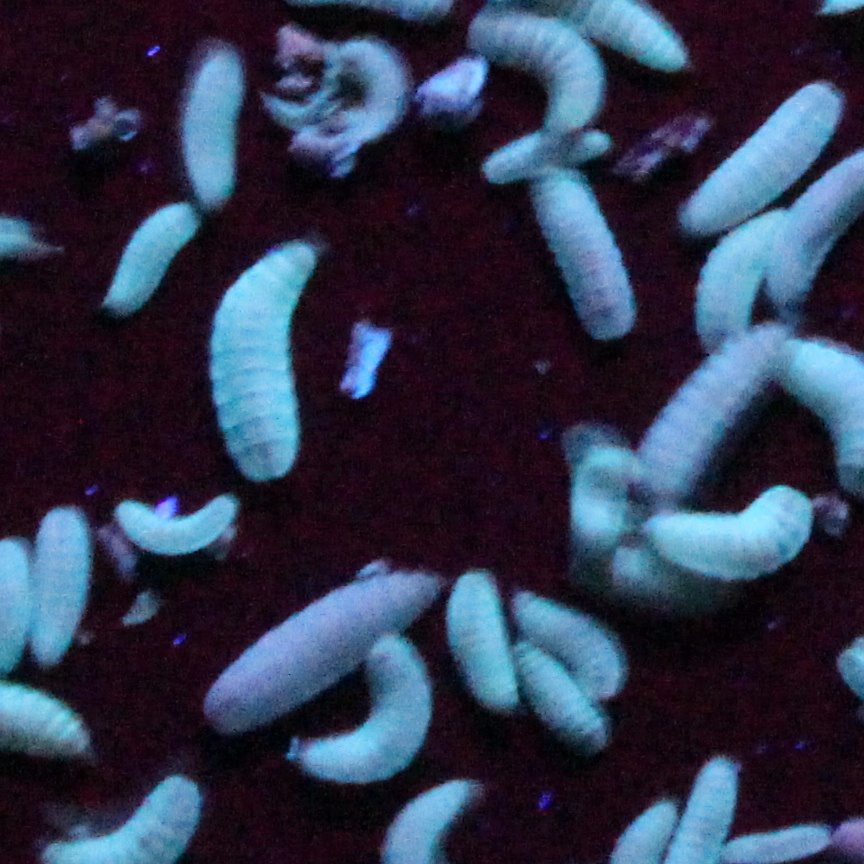larve: (210, 566, 439, 727), (206, 245, 314, 479), (636, 329, 783, 494), (690, 84, 834, 225), (305, 641, 430, 789), (530, 173, 638, 337), (470, 8, 598, 132), (640, 490, 812, 569), (515, 591, 628, 689), (101, 202, 195, 319), (693, 217, 776, 338), (449, 570, 515, 721), (31, 506, 92, 659), (183, 48, 240, 207), (520, 649, 600, 749), (119, 498, 239, 554), (483, 130, 611, 178)
